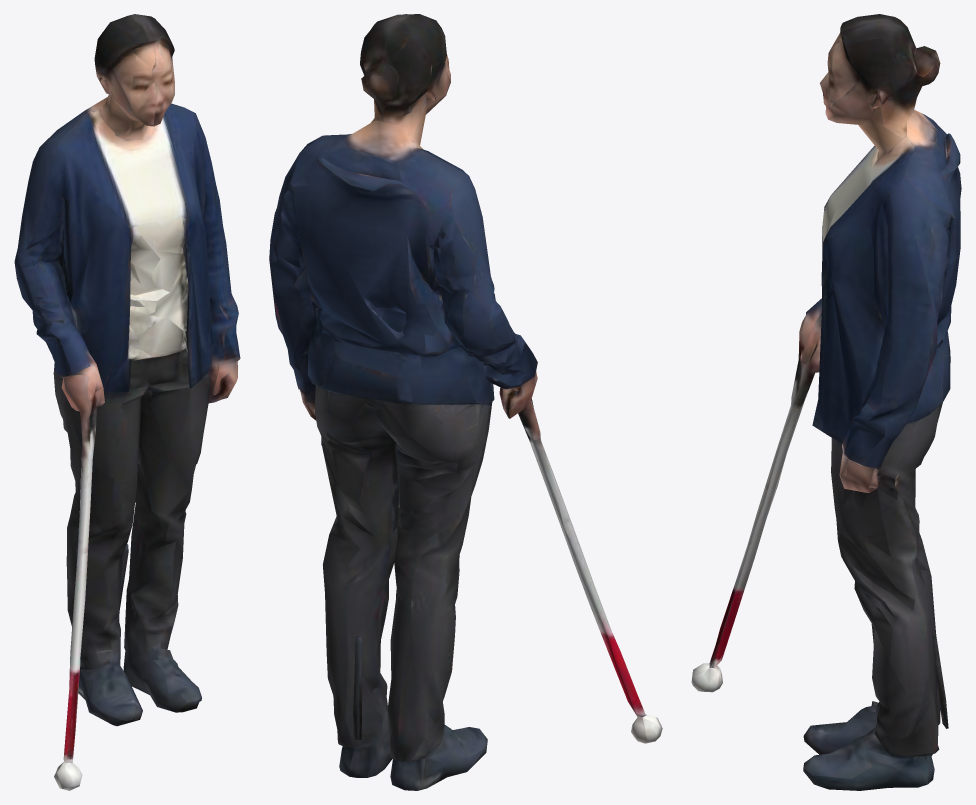
The model's file is person_23.glb.
The picture shows the model from 3 angles, left to right: view 1: azimuth 30°, elevation 25°; view 2: azimuth 150°, elevation 25°; view 3: azimuth 270°, elevation 25°; orthographic projection. The views are drawn at different scales.
Parts seen in each view (by area): view 1: Human_Rig; view 2: Human_Rig; view 3: Human_Rig.
Boxes of the visible parts, x1=… form: Human_Rig: x1=14, y1=14, x2=240, y2=790; Human_Rig: x1=269, y1=14, x2=662, y2=790; Human_Rig: x1=691, y1=14, x2=961, y2=790.
Bounding box in the file's own units: 0.6656 × 1.68 × 0.5479.
Materials: 1 (1 with a texture image).
